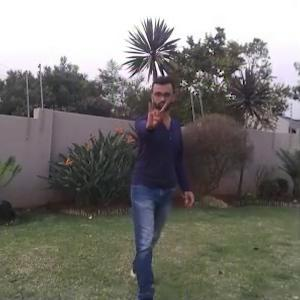takeoff-hand: (137, 95, 172, 133)
